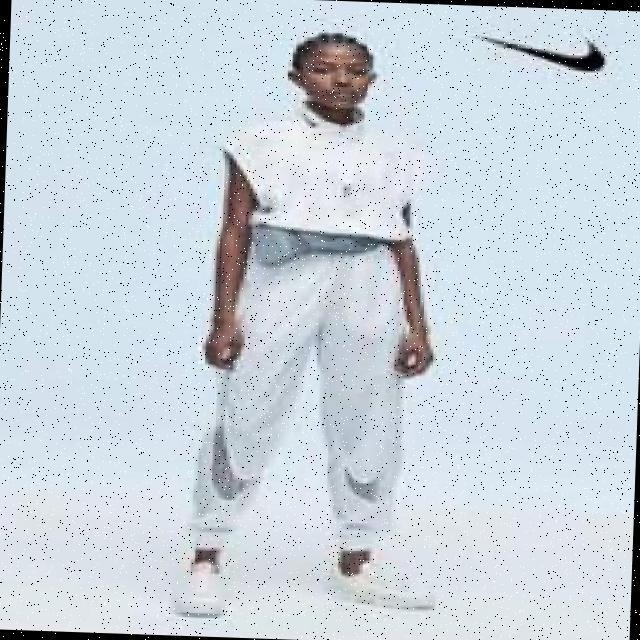Nike: (467, 23, 619, 74)
